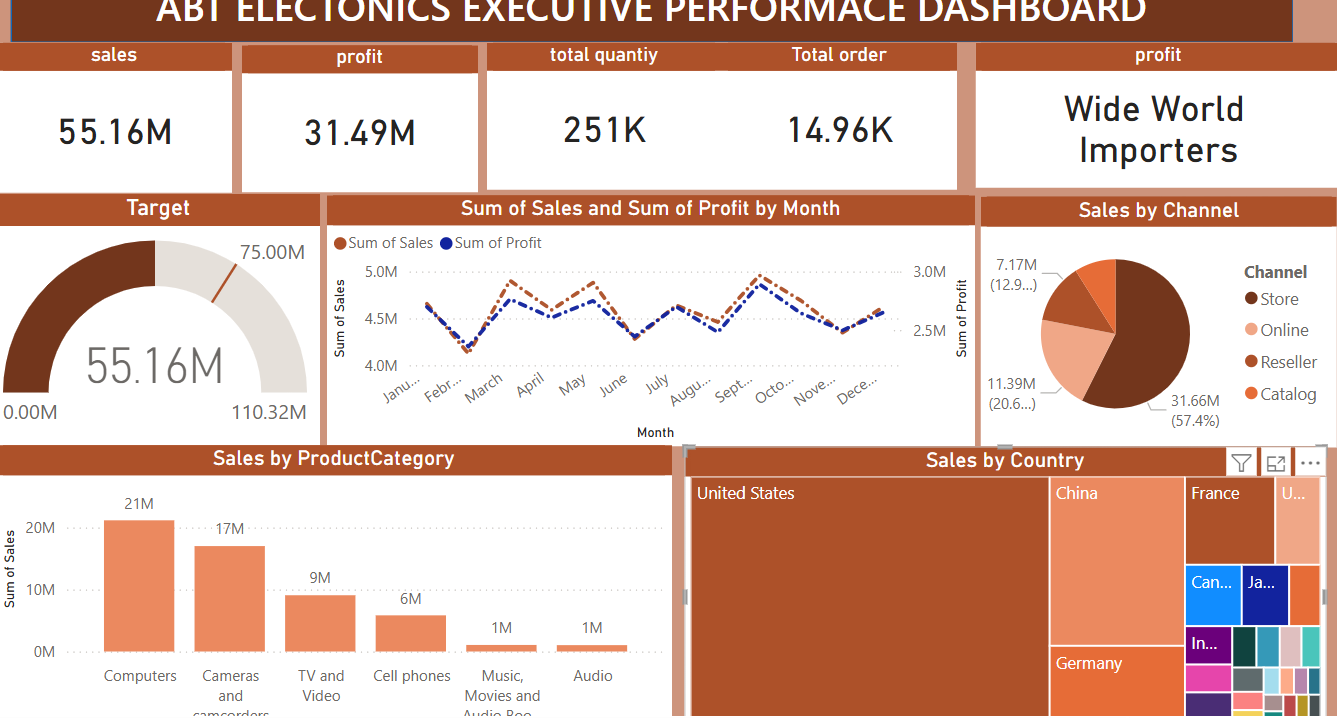

The page's visual inventory and layout, read from the dashboard file:
{"tool":"powerbi","page":{"name":"Page 1","canvas":[1280,1500],"ordinal":0},"visuals":[{"type":"shape","box":[11,0,1026,59],"z":1000},{"type":"card","title":"sales","fields":{"Values":["Sum(Ele_Store1.Sales)"]},"box":[0,59,188,120],"z":6000},{"type":"card","title":"profit","fields":{"Values":["Sum(Ele_Store1.Profit)"]},"box":[196,61,189,118],"z":7000},{"type":"card","title":"total quantiy","fields":{"Values":["Sum(Ele_Store1.OrderQty)"]},"box":[392,59,188,118],"z":8000},{"type":"card","title":"Total order","fields":{"Values":["CountNonNull(Ele_Store1.OrderID)"]},"box":[580,59,188,118],"z":9000},{"type":"card","title":"profit","fields":{"Values":["Min(Ele_Store1.Manufacturer)"]},"box":[783,59,293,116],"z":10000},{"type":"gauge","title":"Target","fields":{"Y":["Sum(Ele_Store1.Sales)"]},"box":[0,180,259,201],"z":11000},{"type":"lineChart","fields":{"Category":["Ele_Store1.OrderDate.Variation.Date Hierarchy.Month"],"Y":["Sum(Ele_Store1.Sales)"],"Y2":["Sum(Ele_Store1.Profit)"]},"box":[264,181,519,201],"z":12000},{"type":"pieChart","title":"Sales by Channel","fields":{"Y":["Sum(Ele_Store1.Sales)"],"Category":["Ele_Store1.Channel"]},"box":[787,182,286,201],"z":13000},{"type":"columnChart","title":" Sales by ProductCategory","fields":{"Y":["Sum(Ele_Store1.Sales)"],"Category":["Ele_Store1.ProductCategory"]},"box":[0,381,540,242],"z":14000},{"type":"treemap","title":" Sales by Country","fields":{"Values":["Sum(Ele_Store1.Sales)"],"Group":["Ele_Store1.Country"]},"box":[550,382,514,242],"z":15000},{"type":"waterfallChart","title":" Sales by Year and Region","fields":{"Y":["Sum(Ele_Store1.Sales)"],"Category":["Ele_Store1.OrderDate.Variation.Date Hierarchy.Year"],"Breakdown":["Ele_Store1.Region"]},"box":[0,640,1280,280],"z":16000}]}

Visuals, with their boxes on the page's 1280x1500 design canvas (x1, y1, x2, y2). These are canvas units, not pixel positions in the 1337x718 screenshot, which may show the page scaled, cropped or inside an application window:
shape: Rect(11, 0, 1037, 59)
"sales" card: Rect(0, 59, 188, 179)
"profit" card: Rect(196, 61, 385, 179)
"total quantiy" card: Rect(392, 59, 580, 177)
"Total order" card: Rect(580, 59, 768, 177)
"profit" card: Rect(783, 59, 1076, 175)
"Target" gauge: Rect(0, 180, 259, 381)
lineChart - Ele_Store1.OrderDate.Variation.Date Hierarchy.Month x Sum(Ele_Store1.Sales): Rect(264, 181, 783, 382)
"Sales by Channel" pieChart: Rect(787, 182, 1073, 383)
" Sales by ProductCategory" columnChart: Rect(0, 381, 540, 623)
" Sales by Country" treemap: Rect(550, 382, 1064, 624)
" Sales by Year and Region" waterfallChart: Rect(0, 640, 1280, 920)
